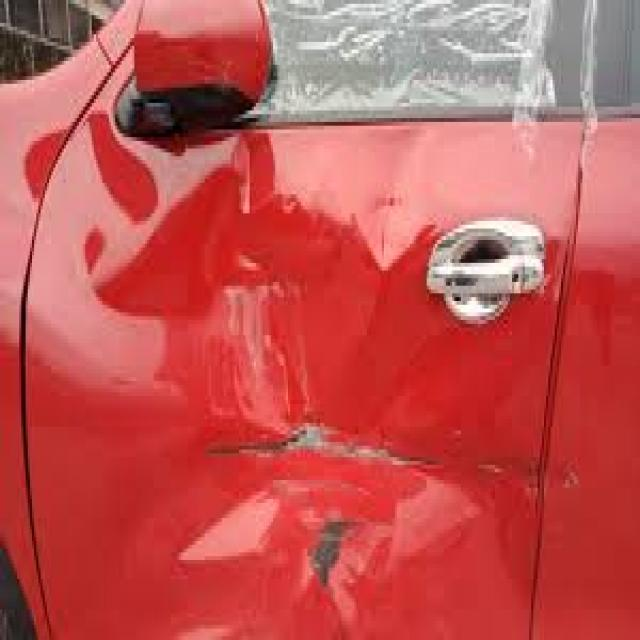minor: (163, 199, 372, 450)
